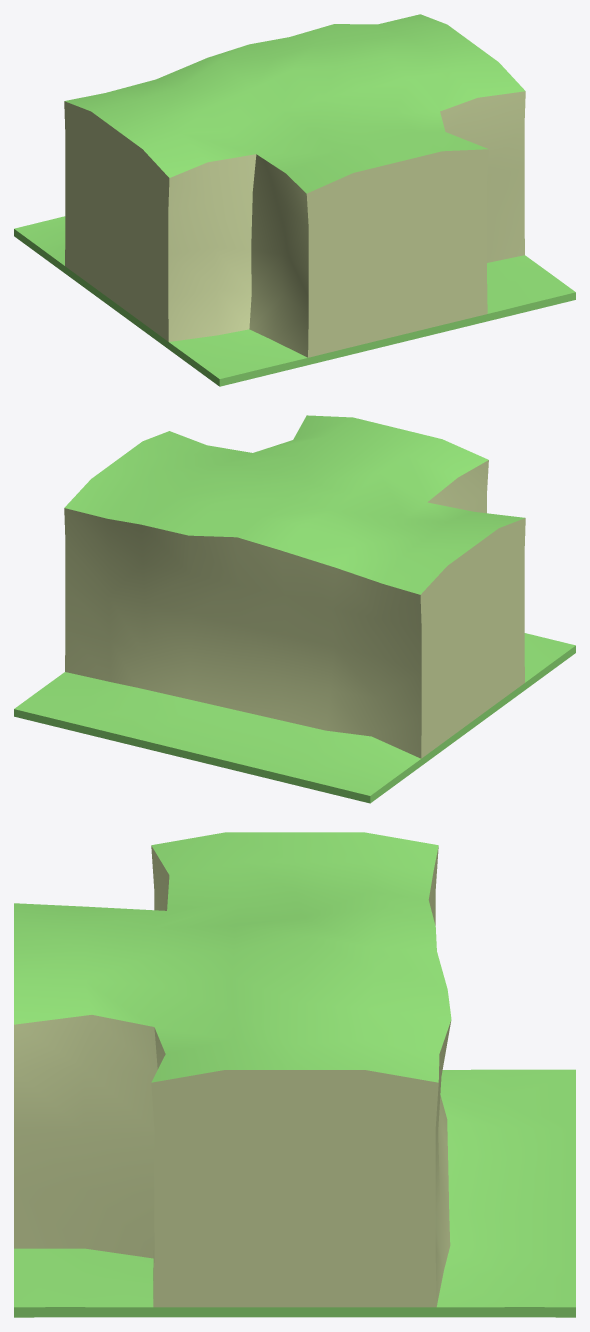
File: wall_slim_join3_1.glb
3 views of the same model, one above another, from view 1: azimuth 30°, elevation 25°; view 2: azimuth 150°, elevation 25°; view 3: azimuth 270°, elevation 25° (orthographic). The views are drawn at different scales.
Visible parts, largest first — view 1: wall_slim_join3_1; view 2: wall_slim_join3_1; view 3: wall_slim_join3_1.
Boxes of the visible parts, x1=… form: wall_slim_join3_1: x1=14, y1=14, x2=575, y2=386; wall_slim_join3_1: x1=14, y1=415, x2=575, y2=803; wall_slim_join3_1: x1=14, y1=832, x2=575, y2=1317.
Bounding box in the file's own units: 2 × 1.04 × 2.
